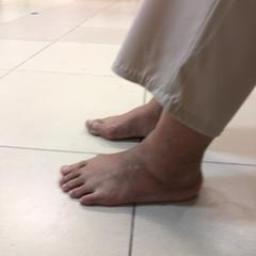Lateral View -Left Foot-: (33, 114, 234, 224)
